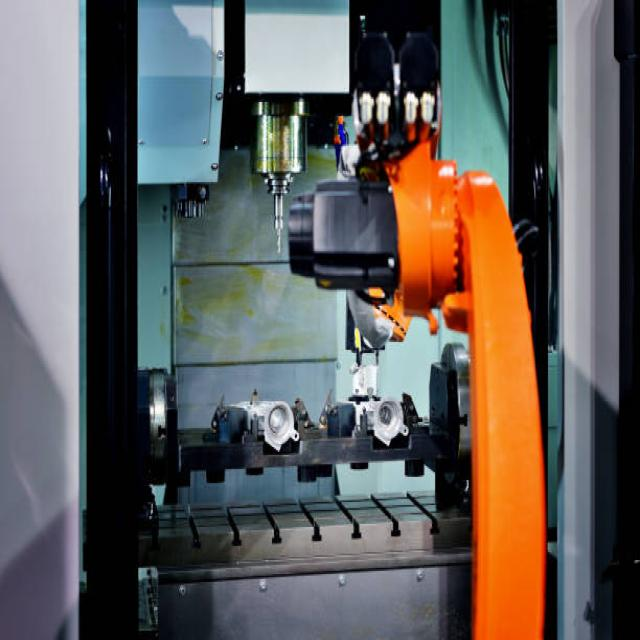Robotic-arm: (287, 92, 554, 640)
